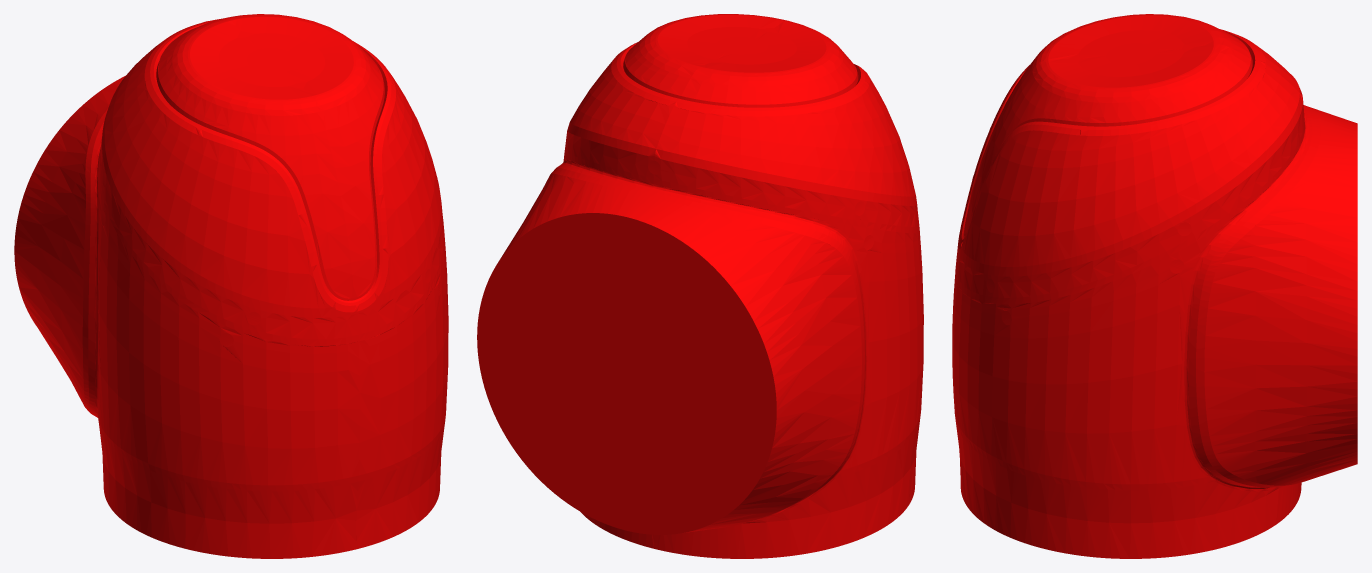
The picture shows the model from 3 angles, left to right: view 1: azimuth 30°, elevation 25°; view 2: azimuth 150°, elevation 25°; view 3: azimuth 270°, elevation 25°; orthographic projection. The views are drawn at different scales.
Visible parts, largest first — view 1: MF1013_1_0; view 2: MF1013_1_0; view 3: MF1013_1_0.
Part boxes in pixels (x1,y1,x2,y2): MF1013_1_0: [14, 14, 448, 558]; MF1013_1_0: [477, 14, 923, 558]; MF1013_1_0: [952, 14, 1357, 558].
Bounding box in the file's own units: 162 × 182 × 220.
